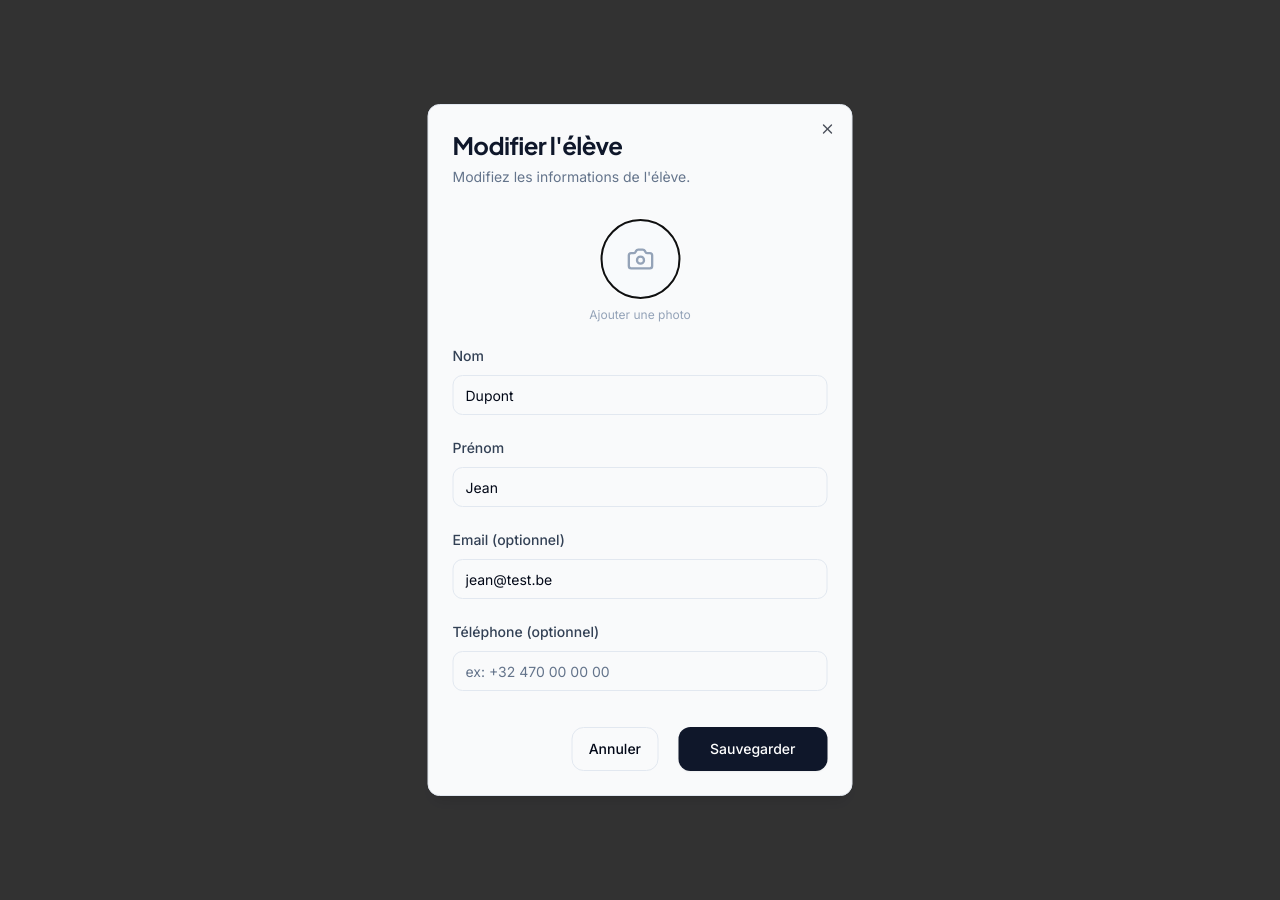
Test case: UpdateStudentDialog › shows server error on update failure
Click the button "Sauvegarder" at (753, 749), box [678,727,828,771]
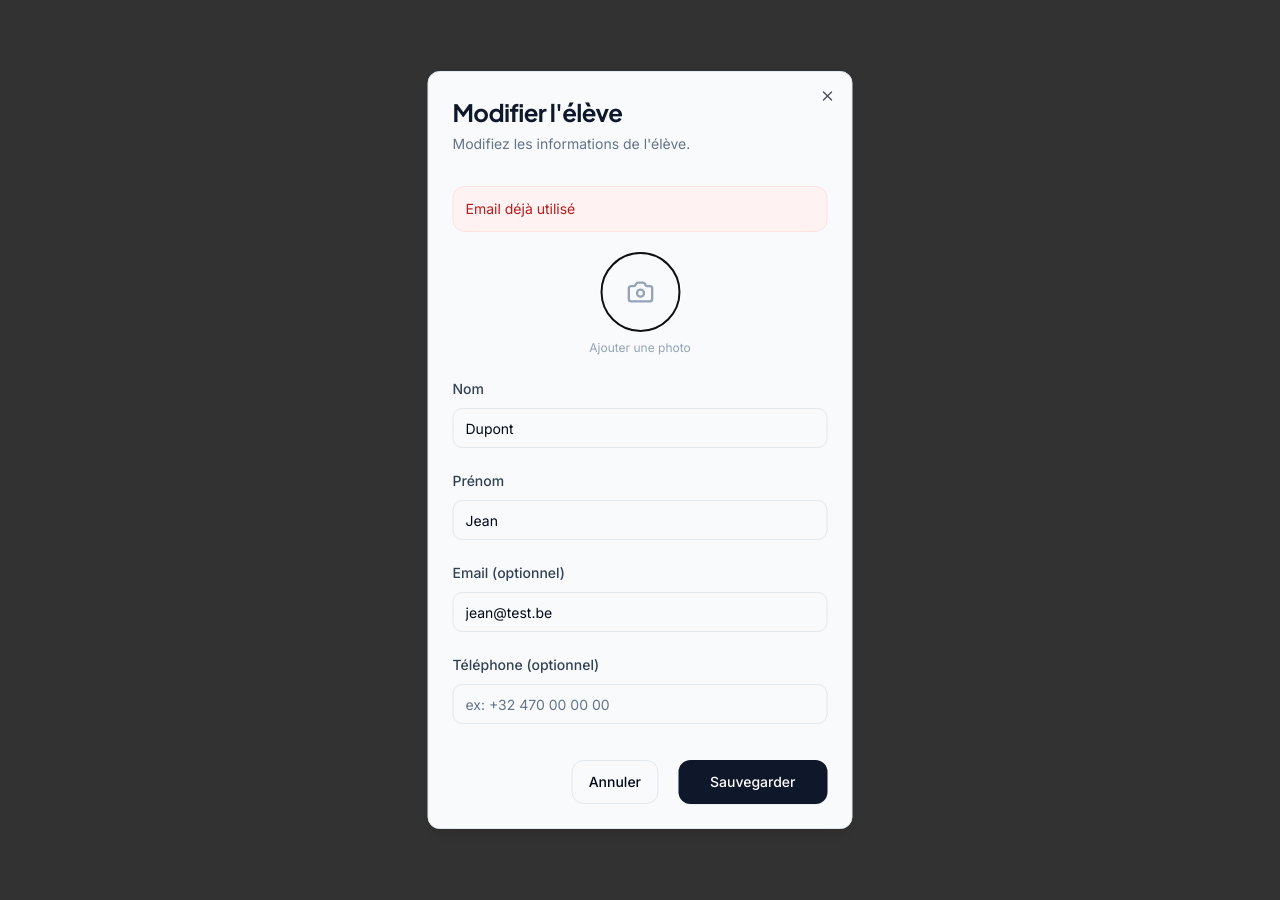
Expected: the text "Email déjà utilisé" is shown, [452,186,828,232]
